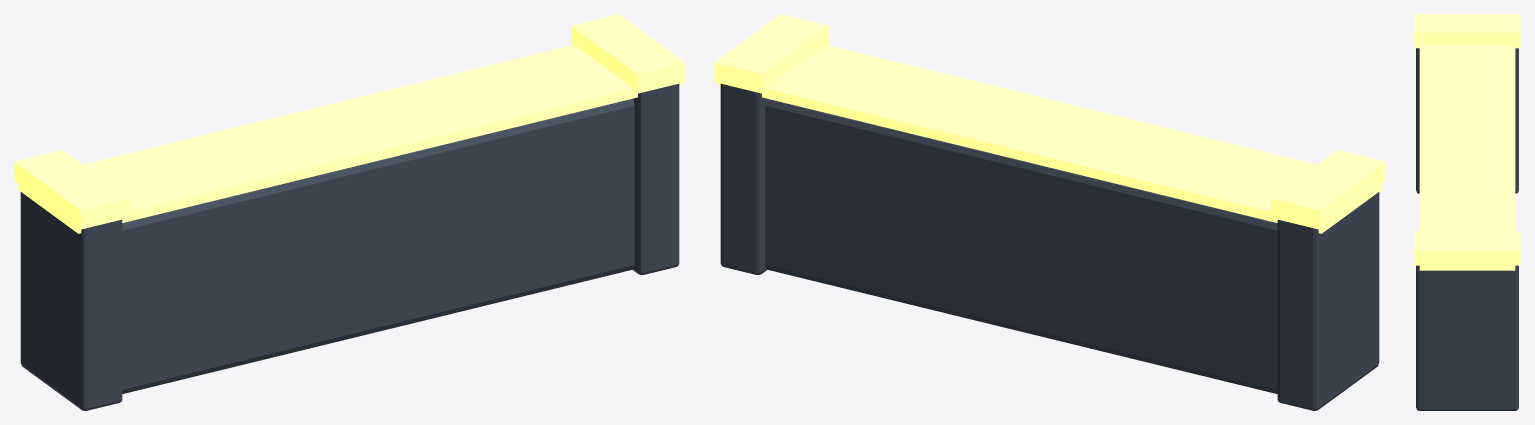
Rendered from barrier.glb.
3 views of the same model, side by side, from view 1: azimuth 30°, elevation 25°; view 2: azimuth 150°, elevation 25°; view 3: azimuth 270°, elevation 25° (orthographic). The views are drawn at different scales.
Visible parts, largest first — view 1: wall, strip, post, post.001, post_glow, post_glow.001; view 2: wall, strip, post, post.001, post_glow, post_glow.001; view 3: strip, post.001, post_glow.001, post_glow, post.
Boxes of the visible parts, bbox=[...] form: wall: bbox=[122, 98, 634, 393]; strip: bbox=[18, 44, 681, 233]; post: bbox=[20, 192, 122, 410]; post.001: bbox=[632, 83, 679, 274]; post_glow: bbox=[14, 150, 128, 229]; post_glow.001: bbox=[571, 14, 685, 93]; wall: bbox=[765, 98, 1277, 393]; strip: bbox=[718, 44, 1381, 233]; post: bbox=[1277, 192, 1379, 410]; post.001: bbox=[720, 83, 767, 274]; post_glow: bbox=[1271, 150, 1385, 229]; post_glow.001: bbox=[714, 14, 828, 93]; strip: bbox=[1419, 46, 1515, 270]; post.001: bbox=[1416, 265, 1518, 410]; post_glow.001: bbox=[1414, 231, 1520, 265]; post_glow: bbox=[1414, 14, 1520, 48]; post: bbox=[1416, 48, 1518, 193].
Bounding box in the file's own units: 3.26 × 1.05 × 0.62.
